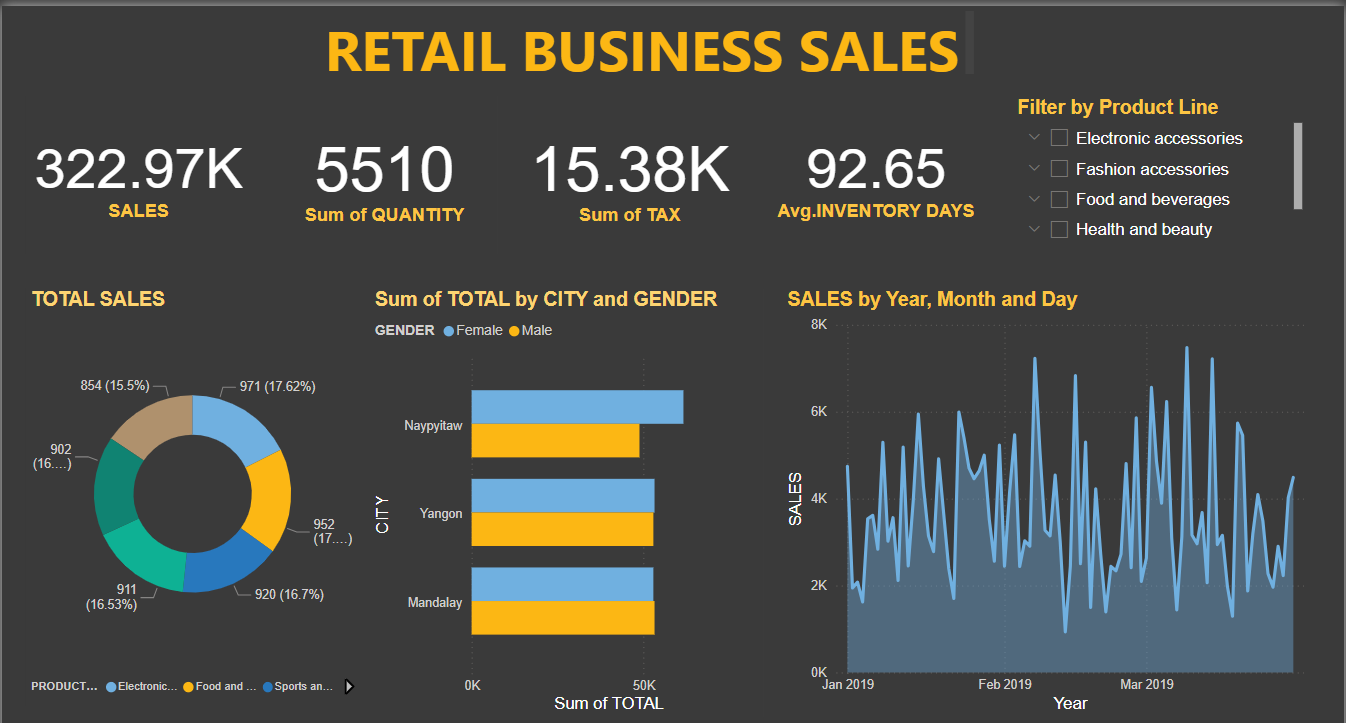

Layout of this report page (visuals, bound fields, positions):
{"tool":"powerbi","page":{"name":"Page 1","canvas":[1280,720],"ordinal":0},"visuals":[{"type":"card","fields":{"Values":["Cleaned_Alcohol_Sales_for_PowerBI.Average_inventory_days"]},"box":[726.3,86.3,215.7,150.3],"z":0},{"type":"card","fields":{"Values":["Sum(Cleaned_Alcohol_Sales_for_PowerBI.QUANTITY)"]},"box":[257.1,86.4,215,150.4],"z":1000},{"type":"card","fields":{"Values":["Sum(Cleaned_Alcohol_Sales_for_PowerBI.TAX_5%)"]},"box":[491.4,86.3,215.7,150.3],"z":2000},{"type":"card","fields":{"Values":["Cleaned_Alcohol_Sales_for_PowerBI.Total_Sales"]},"box":[22.3,86.3,215.7,150.3],"z":3000},{"type":"areaChart","fields":{"Category":["Cleaned_Alcohol_Sales_for_PowerBI.DATE.Variation.Date Hierarchy.Year","Cleaned_Alcohol_Sales_for_PowerBI.DATE.Variation.Date Hierarchy.Month","Cleaned_Alcohol_Sales_for_PowerBI.DATE.Variation.Date Hierarchy.Day"],"Y":["Cleaned_Alcohol_Sales_for_PowerBI.Total_Sales"]},"box":[744.3,269.9,519,409],"z":4000},{"type":"donutChart","title":"TOTAL SALES","fields":{"Y":["Sum(Cleaned_Alcohol_Sales_for_PowerBI.QUANTITY)"],"Category":["Cleaned_Alcohol_Sales_for_PowerBI.PRODUCT_LINE"]},"box":[22.3,269.9,318.6,397.9],"z":5000},{"type":"clusteredBarChart","fields":{"Category":["Cleaned_Alcohol_Sales_for_PowerBI.CITY"],"Y":["Sum(Cleaned_Alcohol_Sales_for_PowerBI.TOTAL)"],"Series":["Cleaned_Alcohol_Sales_for_PowerBI.GENDER"]},"box":[350.6,269.9,375.7,409],"z":6000},{"type":"slicer","title":"Filter by Product Line","fields":{"Values":["Cleaned_Alcohol_Sales_for_PowerBI.PRODUCT_LINE","Cleaned_Alcohol_Sales_for_PowerBI.CITY","Cleaned_Alcohol_Sales_for_PowerBI.GENDER"]},"box":[963.2,86.4,281.6,150.4],"z":7000},{"type":"textbox","box":[302.8,0,628.9,75.1],"z":8000}]}

Visuals, with their boxes on the page's 1280x720 design canvas (x1, y1, x2, y2). These are canvas units, not pixel positions in the 1346x723 screenshot, which may show the page scaled, cropped or inside an application window:
card - Cleaned_Alcohol_Sales_for_PowerBI.Average_inventory_days: 726, 86, 942, 237
card - Sum(Cleaned_Alcohol_Sales_for_PowerBI.QUANTITY): 257, 86, 472, 237
card - Sum(Cleaned_Alcohol_Sales_for_PowerBI.TAX_5%): 491, 86, 707, 237
card - Cleaned_Alcohol_Sales_for_PowerBI.Total_Sales: 22, 86, 238, 237
areaChart - Cleaned_Alcohol_Sales_for_PowerBI.DATE.Variation.Date Hierarchy.Year x Cleaned_Alcohol_Sales_for_PowerBI.DATE.Variation.Date Hierarchy.Month: 744, 270, 1263, 679
"TOTAL SALES" donutChart: 22, 270, 341, 668
clusteredBarChart - Cleaned_Alcohol_Sales_for_PowerBI.CITY x Sum(Cleaned_Alcohol_Sales_for_PowerBI.TOTAL): 351, 270, 726, 679
"Filter by Product Line" slicer: 963, 86, 1245, 237
textbox: 303, 0, 932, 75
